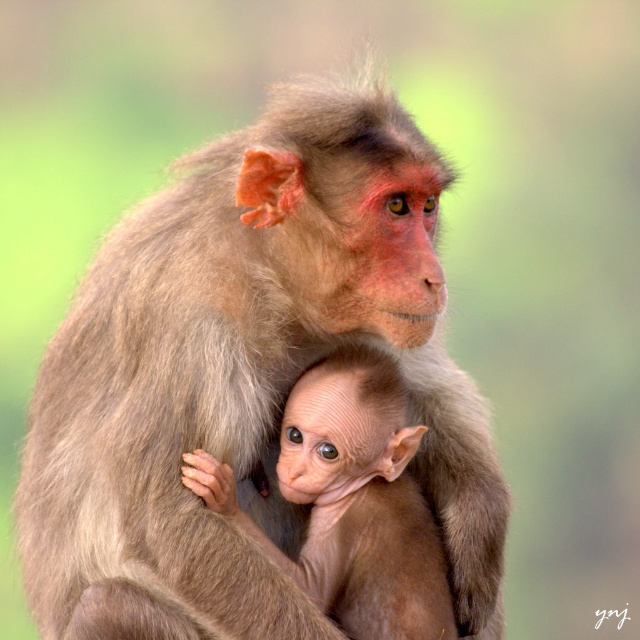Monkey: (2, 26, 519, 640), (179, 344, 461, 640)
